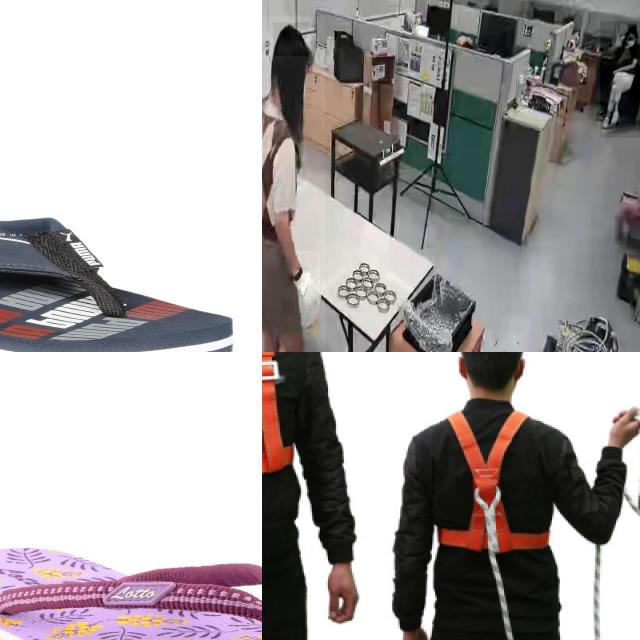Harness: (411, 405, 563, 555)
Sandals: (0, 210, 237, 352), (0, 545, 262, 640)
hand_glove: (294, 250, 320, 314)
head_nohelmet: (273, 22, 309, 57), (627, 24, 637, 34)
person: (262, 15, 325, 352), (600, 21, 640, 138)
shoes: (610, 107, 620, 129), (601, 115, 610, 132)
